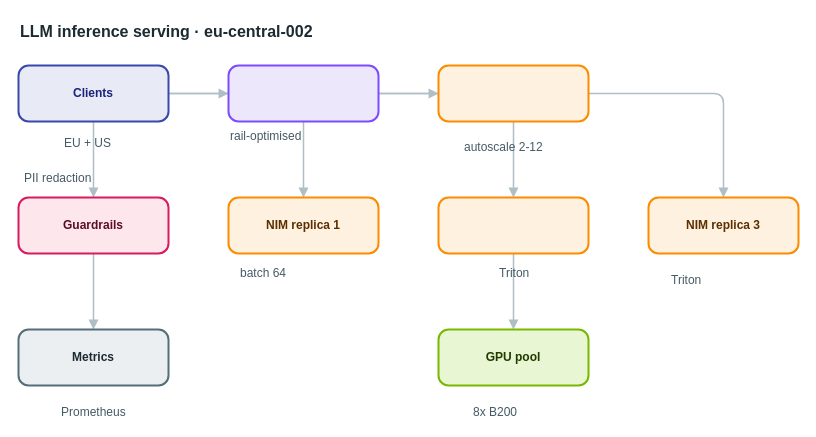
Image size: 816x437. Some labels were removed from this diagram. The box of each missing label's shape, as (x1, y1, x2, y2) in pixels:
API gateway: (227, 64, 379, 122)
NIM replica 2: (437, 196, 589, 254)
Router: (437, 64, 589, 122)
